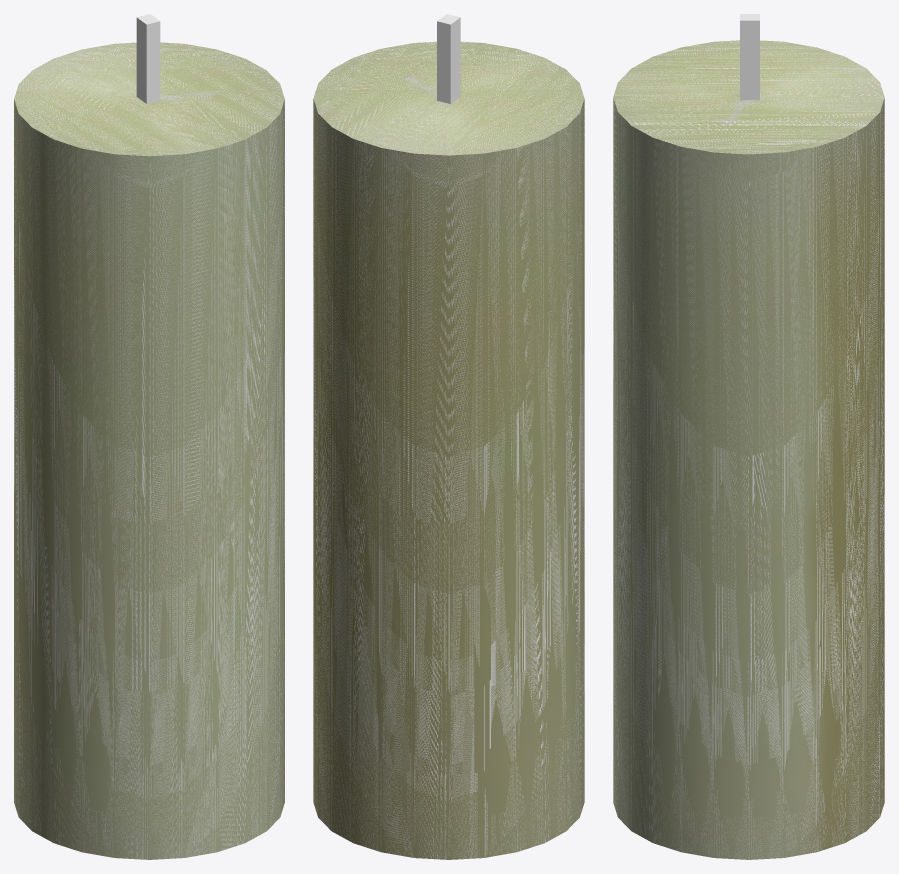
File: thick_candle.dae
3 views of the same model, side by side, from view 1: azimuth 30°, elevation 25°; view 2: azimuth 150°, elevation 25°; view 3: azimuth 270°, elevation 25° (orthographic).
Parts seen in each view (by area): view 1: SketchUp (×3); view 2: SketchUp (×3); view 3: SketchUp (×3).
Part boxes in pixels (box(x1,y1,x2,y2)): SketchUp (×3): box(14, 14, 284, 859); SketchUp (×3): box(313, 14, 584, 859); SketchUp (×3): box(613, 14, 884, 859).
Size of the model in its own units: 0.068 by 0.068 by 0.217.
Materials: 4 (2 with a texture image).
